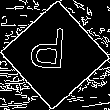P_S: (35, 29, 75, 81)
